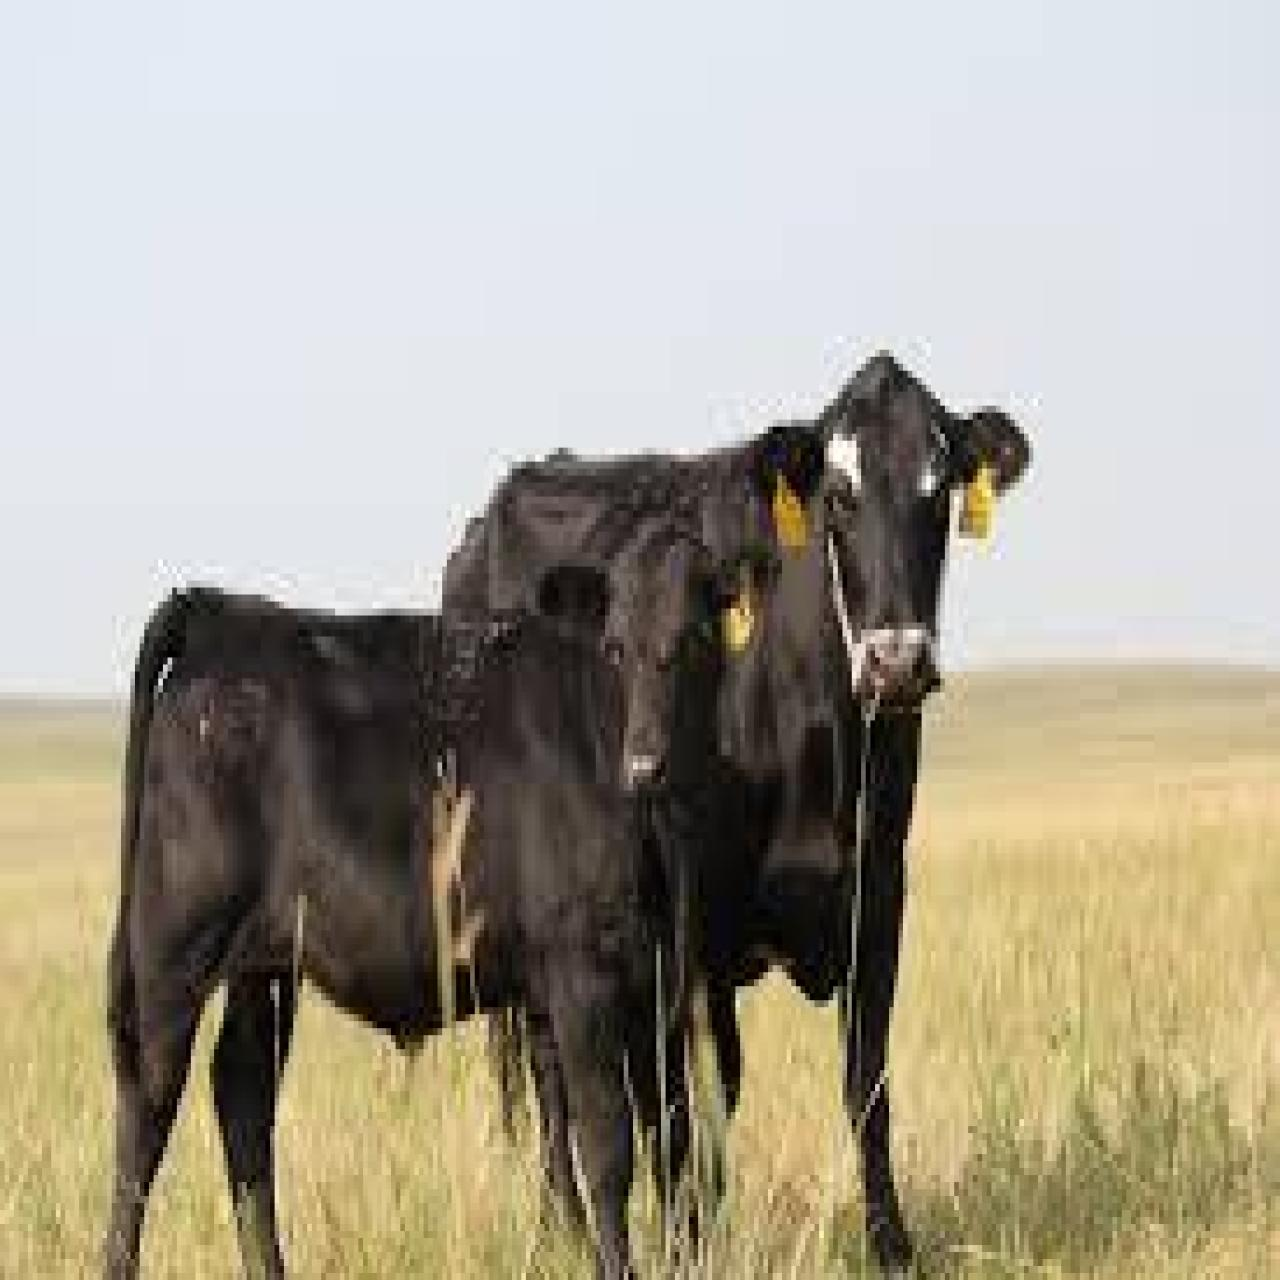cow: (440, 349, 1035, 1280), (102, 524, 781, 1280)
